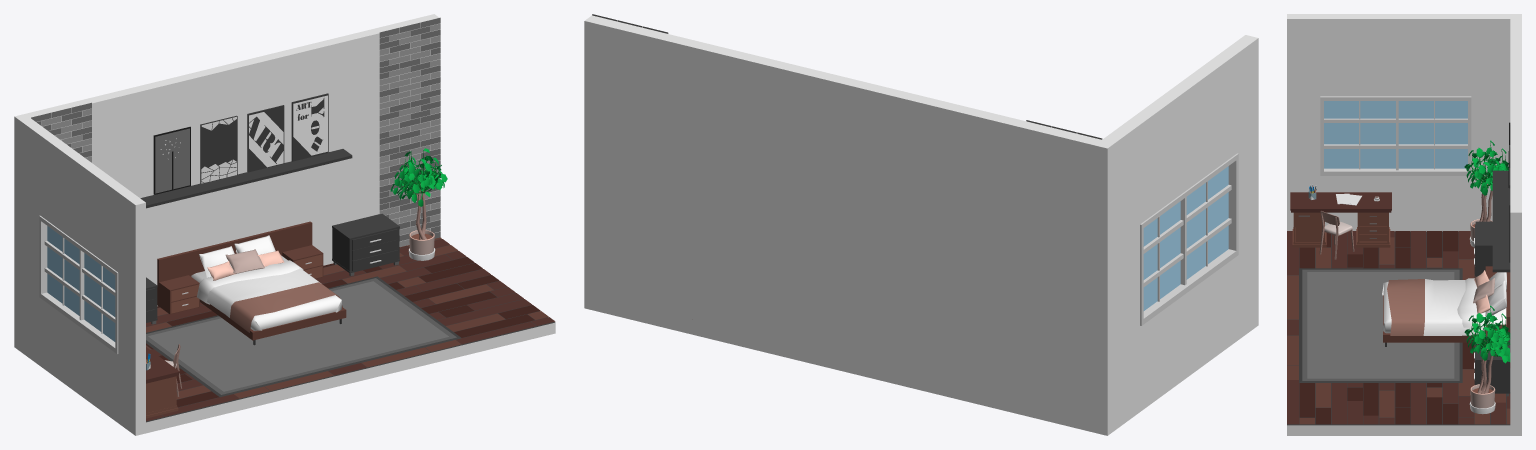
The model's file is room_9.glb.
3 renders of one model, left to right at view 1: azimuth 30°, elevation 25°; view 2: azimuth 150°, elevation 25°; view 3: azimuth 270°, elevation 25°, orthographic. The views are drawn at different scales.
Parts seen in each view (by area): view 1: Walls_006.123, carpet_004.008, bed_005.002, wall_021.011, floor_016.011, Walls_006.127, Walls_006.125, window_018.005, Walls_011.012, Walls_006.124, Walls_006.126, shelf_051.006 (+10 smaller); view 2: Walls_006.123, Walls_006.124, Walls_006.127, window_018.005, Walls_006.126, Walls_006.125; view 3: carpet_004.008, Walls_006.127, window_018.005, floor_016.011, bed_005.002, floor_016.012, Walls_006.124, Walls_006.125, Walls_006.126, Walls_006.123, office_table_005.001, Walls_011.012 (+7 smaller).
Boxes of the visible parts, x1,y1,x2,y2 form: Walls_006.123: [25, 14, 439, 306]; carpet_004.008: [146, 276, 461, 396]; bed_005.002: [157, 221, 346, 345]; wall_021.011: [379, 17, 440, 247]; floor_016.011: [315, 237, 555, 371]; Walls_006.127: [41, 134, 127, 271]; Walls_006.125: [117, 189, 145, 435]; window_018.005: [39, 215, 118, 354]; Walls_011.012: [146, 239, 555, 433]; Walls_006.124: [14, 114, 51, 366]; Walls_006.126: [41, 299, 117, 421]; shelf_051.006: [332, 213, 399, 276]; Walls_006.123: [584, 15, 1101, 432]; Walls_006.124: [1094, 120, 1141, 435]; Walls_006.127: [1128, 51, 1235, 222]; window_018.005: [1140, 153, 1238, 325]; Walls_006.126: [1141, 257, 1235, 410]; Walls_006.125: [1223, 35, 1258, 341]; carpet_004.008: [1299, 268, 1462, 382]; Walls_006.127: [1322, 14, 1468, 96]; window_018.005: [1320, 96, 1471, 175]; floor_016.011: [1287, 327, 1510, 424]; bed_005.002: [1382, 266, 1510, 346]; floor_016.012: [1287, 231, 1475, 327]; Walls_006.124: [1469, 14, 1521, 230]; Walls_006.125: [1287, 14, 1322, 230]; Walls_006.126: [1322, 176, 1468, 231]; Walls_006.123: [1510, 19, 1521, 435]; office_table_005.001: [1290, 192, 1391, 247]; Walls_011.012: [1287, 231, 1510, 435].
Bounding box in the file's own units: 8.02 × 4.22 × 4.
Materials: 1 (1 with a texture image).
